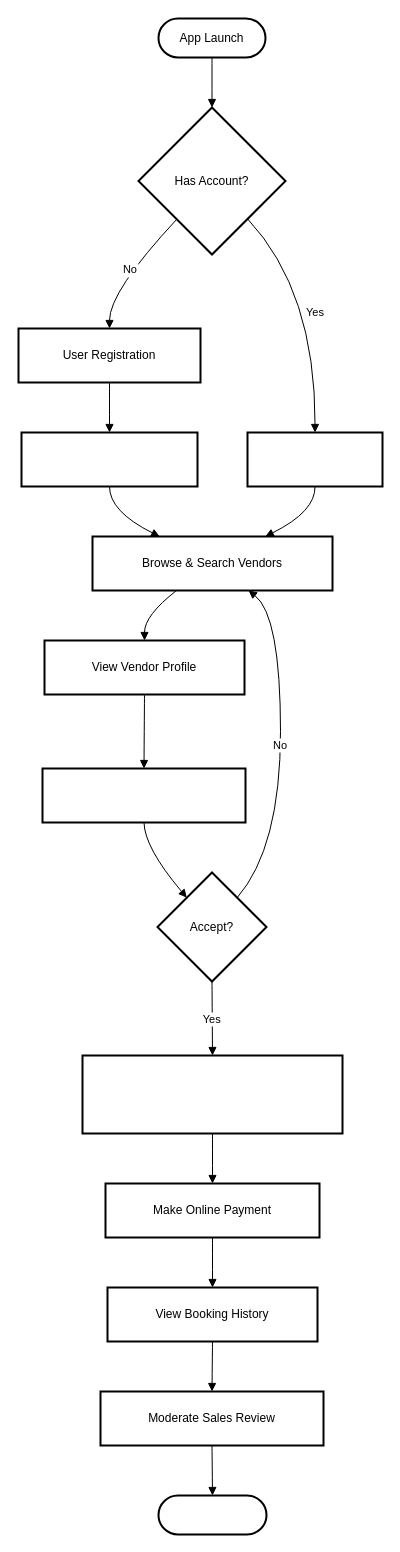
The diagram is 400 pixels wide and 1552 high, and some of its shapes have lost their labels. The box of each missing label's shape, as (x1, y1, x2, y2) in pixels:
End/Logout: (157, 1494, 267, 1535)
OTP Verification: (20, 431, 198, 487)
Receive Booking Confirmation: (81, 1054, 343, 1134)
Send Vendor Inquiry: (41, 767, 246, 823)
User Login: (246, 431, 383, 487)
